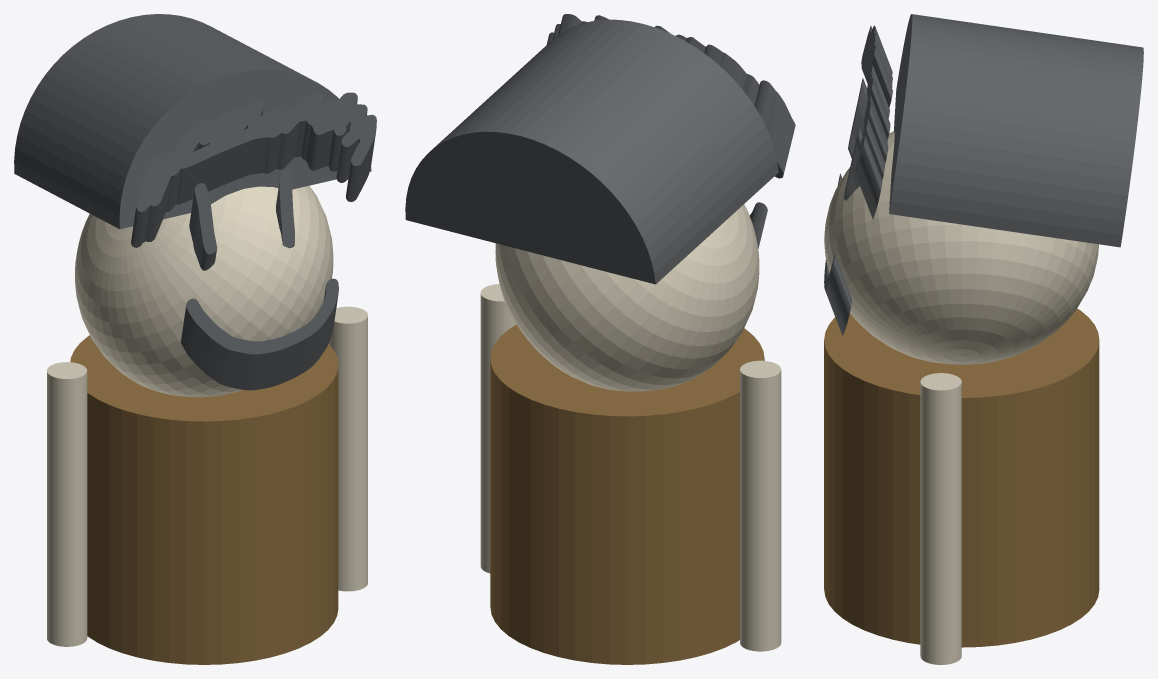
Rendered from boy.glb.
The picture shows the model from 3 angles, left to right: view 1: azimuth 30°, elevation 25°; view 2: azimuth 150°, elevation 25°; view 3: azimuth 270°, elevation 25°; orthographic projection. The views are drawn at different scales.
Parts seen in each view (by area): view 1: Mesh_Mesh_head_geo.001_lambert2SG.001; view 2: Mesh_Mesh_head_geo.001_lambert2SG.001; view 3: Mesh_Mesh_head_geo.001_lambert2SG.001.
Part boxes in pixels (<box>): Mesh_Mesh_head_geo.001_lambert2SG.001: <box>14,14,376,664</box>; Mesh_Mesh_head_geo.001_lambert2SG.001: <box>405,14,795,664</box>; Mesh_Mesh_head_geo.001_lambert2SG.001: <box>824,14,1143,664</box>.
Size of the model in its own units: 26 by 45.28 by 23.23.
